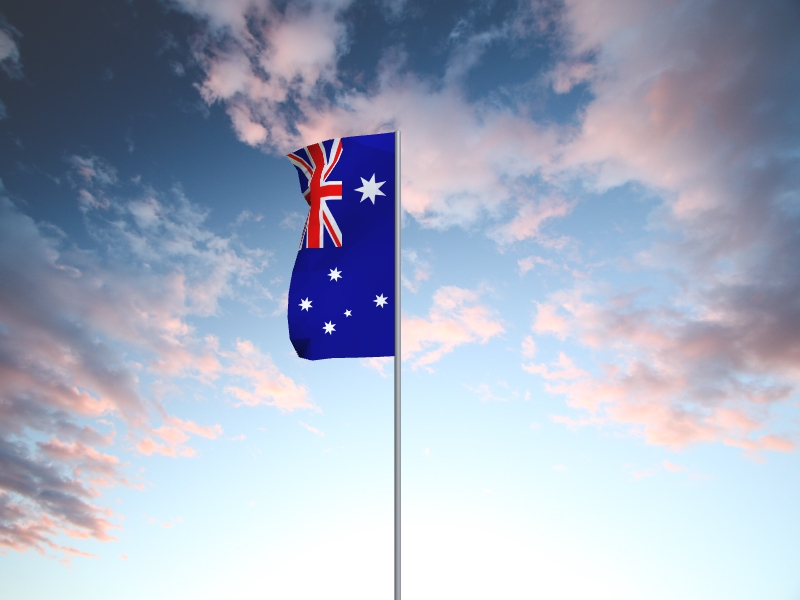au: (286, 133, 396, 363)
